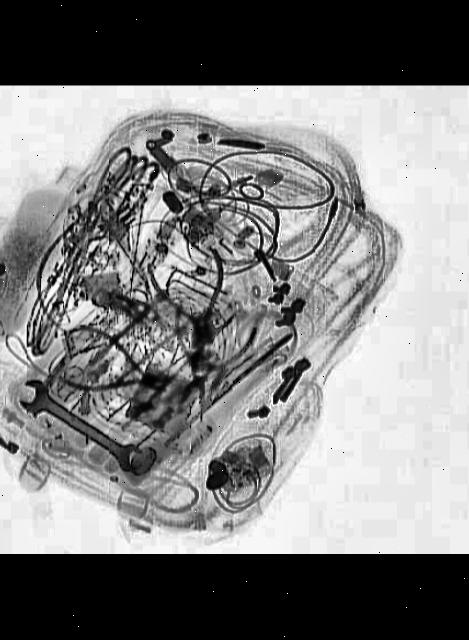Pliers: (52, 323, 181, 414), (146, 248, 243, 354), (172, 312, 266, 404)
Wrench: (9, 378, 156, 479)
